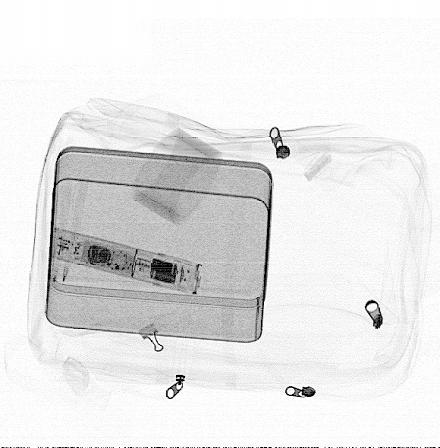Baton: (51, 228, 204, 294)
